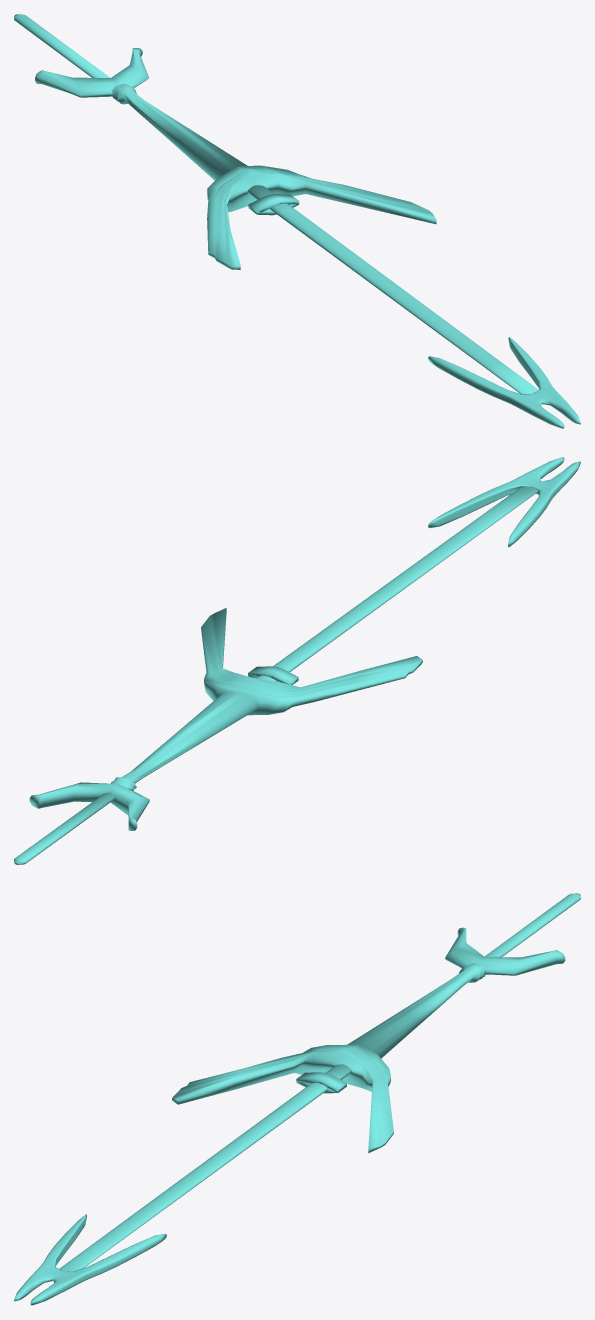
The model's file is mdlArraignSpear.fbx.
3 views of the same model, one above another, from view 1: azimuth 30°, elevation 25°; view 2: azimuth 150°, elevation 25°; view 3: azimuth 330°, elevation 25° (orthographic).
Parts seen in each view (by area): view 1: Spear; view 2: Spear; view 3: Spear.
Part boxes in pixels (left/top/right/bottom): Spear: left=14, top=14, right=580, bottom=428; Spear: left=14, top=457, right=580, bottom=864; Spear: left=14, top=893, right=580, bottom=1305.
Bounding box in the file's own units: 0.7021 × 0.1131 × 3.25.
1 material, 1 textured.
